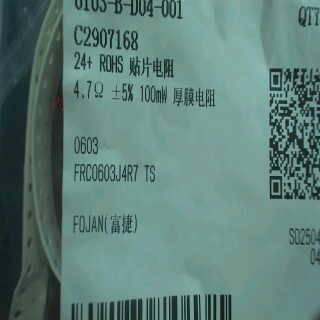4.7R: (72, 75, 109, 104)
